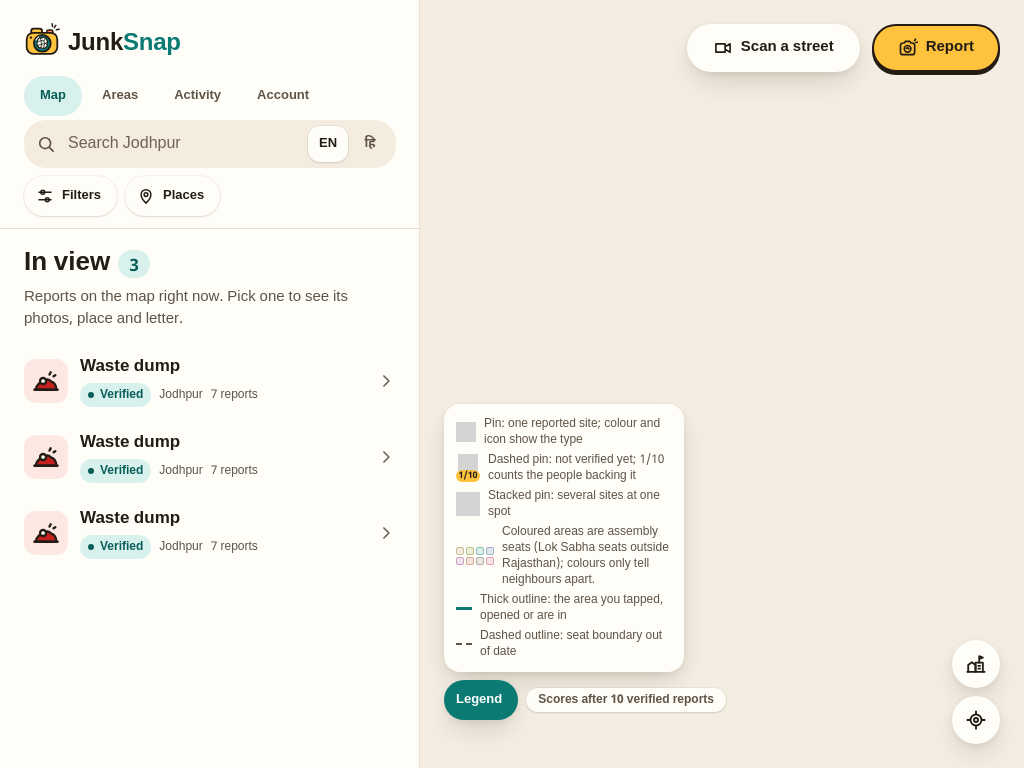
it: Places with reports on a phone › lists the places with their counts, most sites first
This screenshot has width=1024, height=768.
Click the button with aria-label "Places with reports" at (173, 196), box [125,176,220,216]
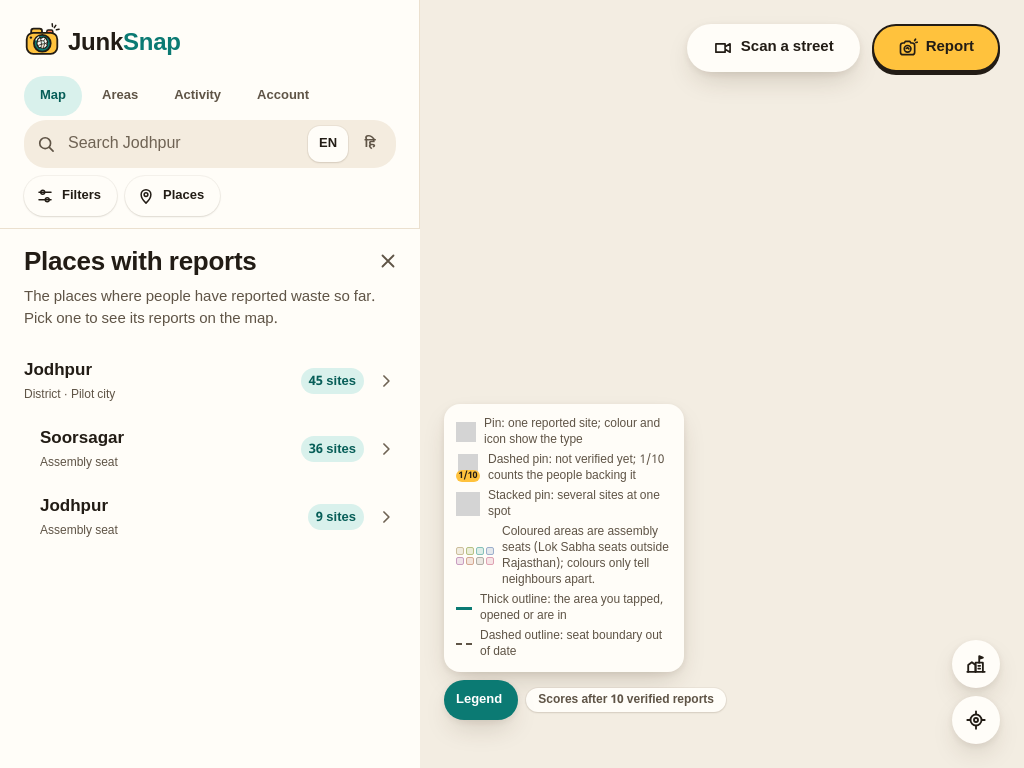
Expected: the list named "Places and their site counts" is shown, [16,347,404,551]
